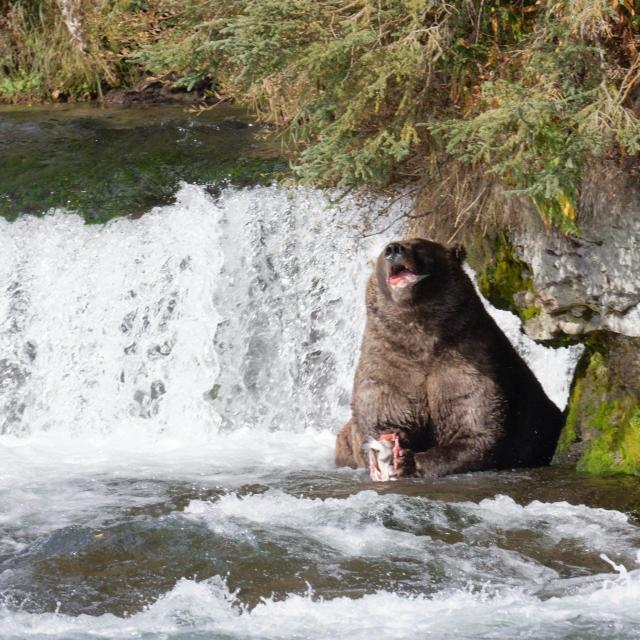Bear: (335, 239, 567, 482)
